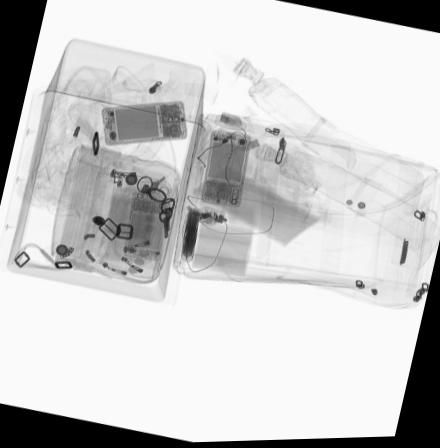Powerbank: (179, 208, 201, 263)
